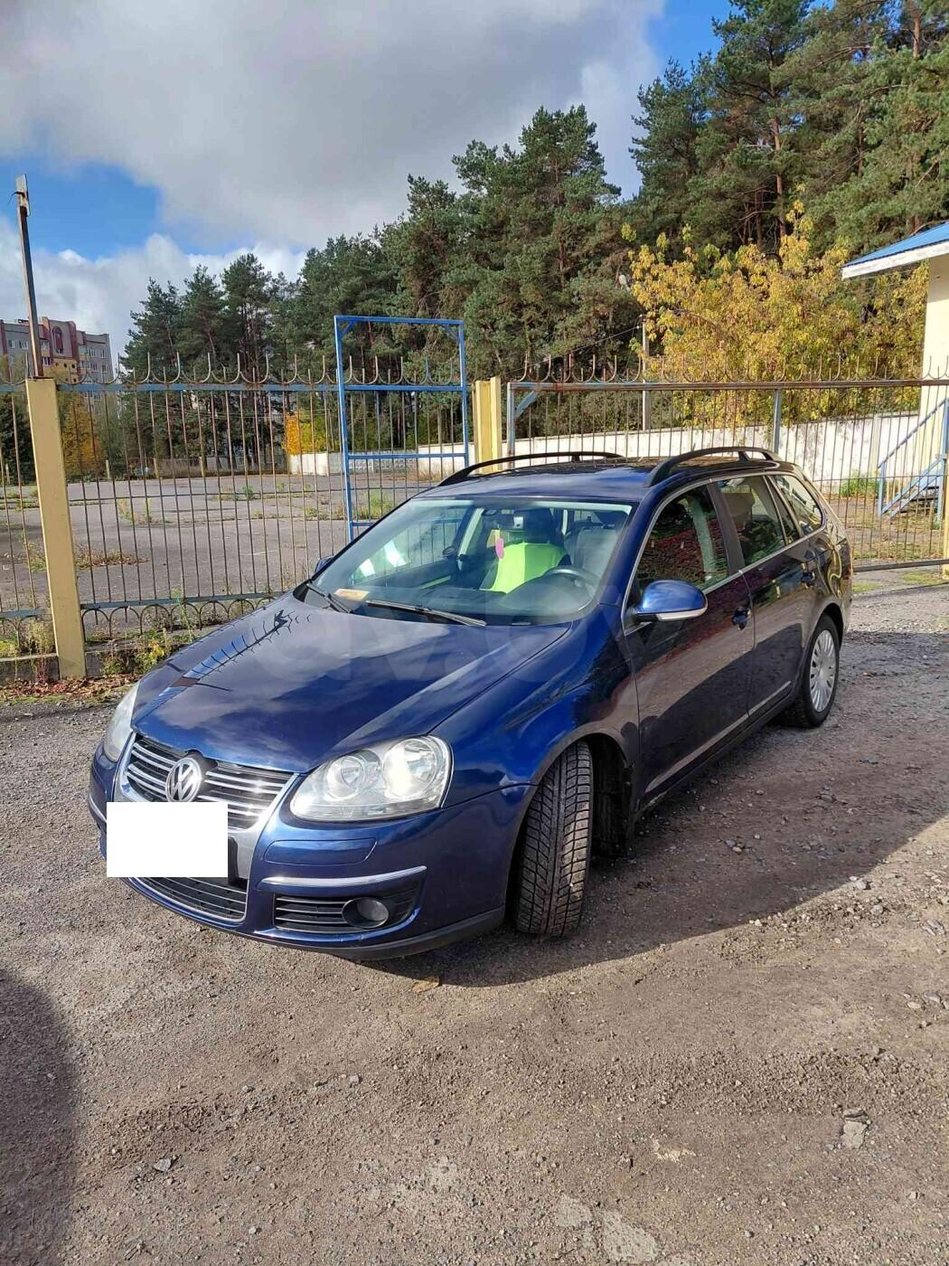Golf_2003-2009: (95, 450, 850, 966)
